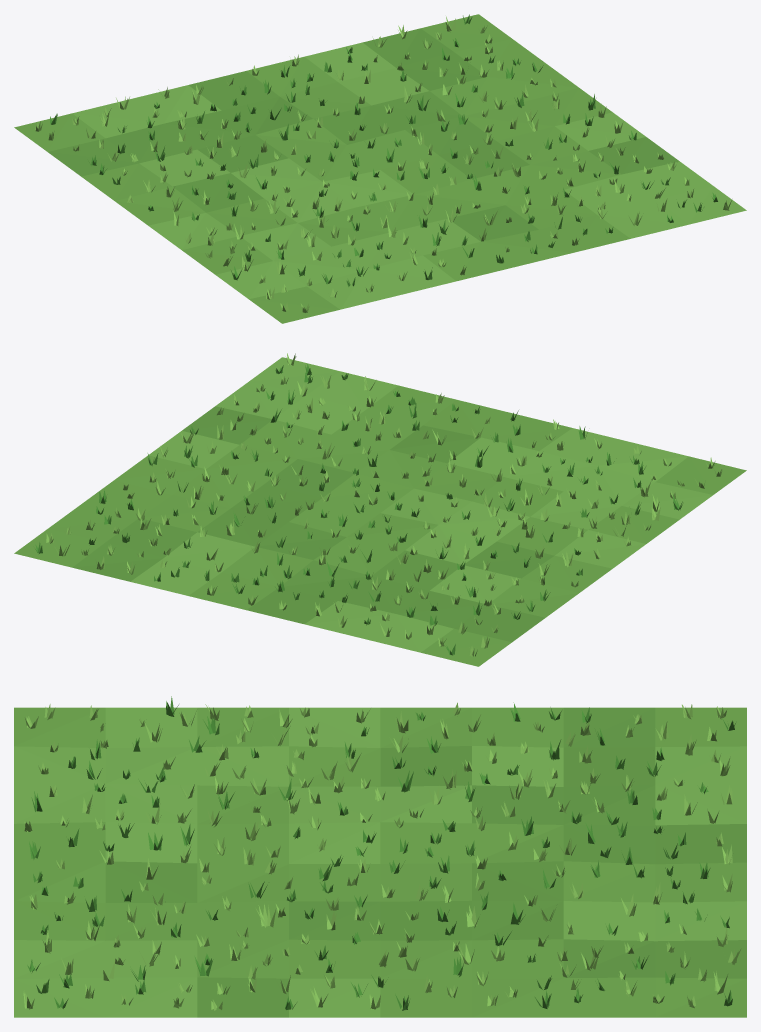
File: gramado-detalhado.glb
3 renders of one model, top to bottom at view 1: azimuth 30°, elevation 25°; view 2: azimuth 150°, elevation 25°; view 3: azimuth 270°, elevation 25°, orthographic. The views are drawn at different scales.
Parts seen in each view (by area): view 1: Gramado, Tufos; view 2: Gramado, Tufos; view 3: Gramado, Tufos.
Part boxes in pixels (x1=…): Gramado: x1=14, y1=14, x2=746, y2=323; Tufos: x1=35, y1=14, x2=731, y2=312; Gramado: x1=14, y1=357, x2=746, y2=666; Tufos: x1=35, y1=353, x2=721, y2=656; Gramado: x1=14, y1=707, x2=746, y2=1017; Tufos: x1=23, y1=696, x2=741, y2=1010.
Size of the model in its own units: 12 by 0.3698 by 12.
